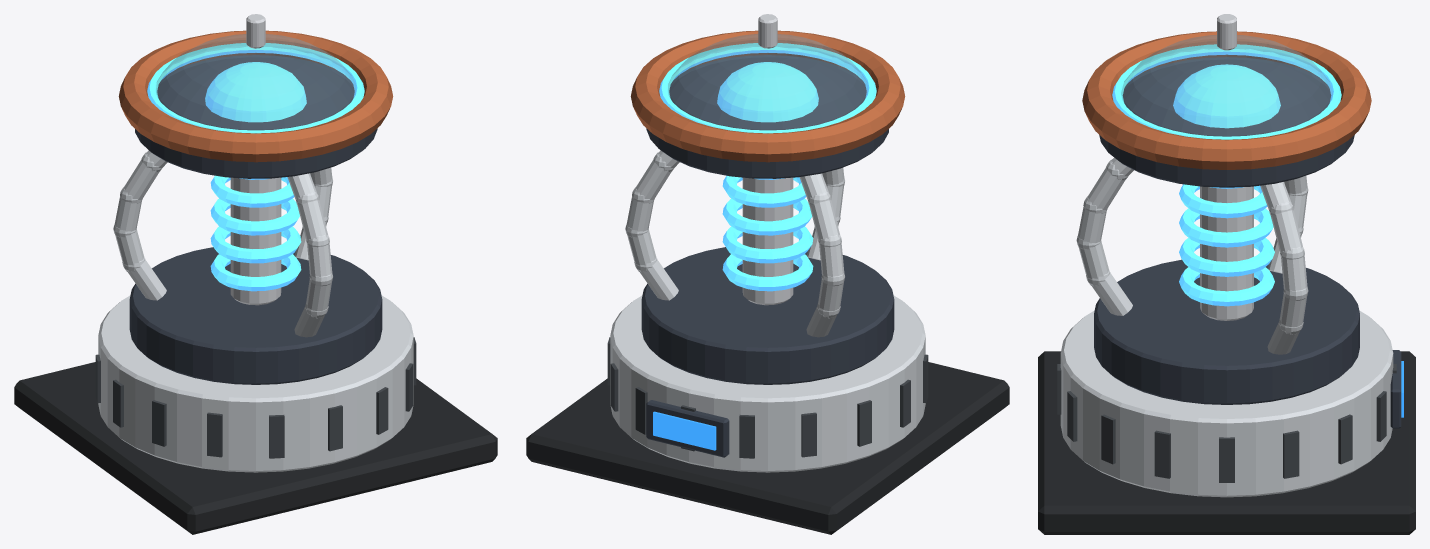
The model's file is shield_projector.glb.
3 views of the same model, side by side, from view 1: azimuth 30°, elevation 25°; view 2: azimuth 150°, elevation 25°; view 3: azimuth 270°, elevation 25° (orthographic). The views are drawn at different scales.
Visible parts, largest first — view 1: shield_projector; view 2: shield_projector; view 3: shield_projector.
Part boxes in pixels (<box>): shield_projector: <box>14,14,497,534</box>; shield_projector: <box>526,14,1009,534</box>; shield_projector: <box>1038,14,1415,534</box>.
Size of the model in its own units: 0.7 by 0.9 by 0.7.
